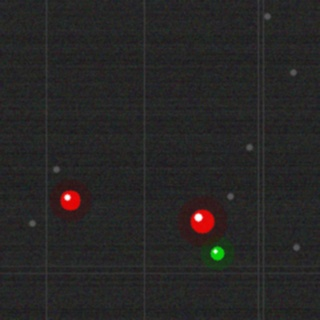green_normal: (208, 244, 226, 262)
red_fault: (188, 207, 216, 235), (58, 188, 82, 212)
